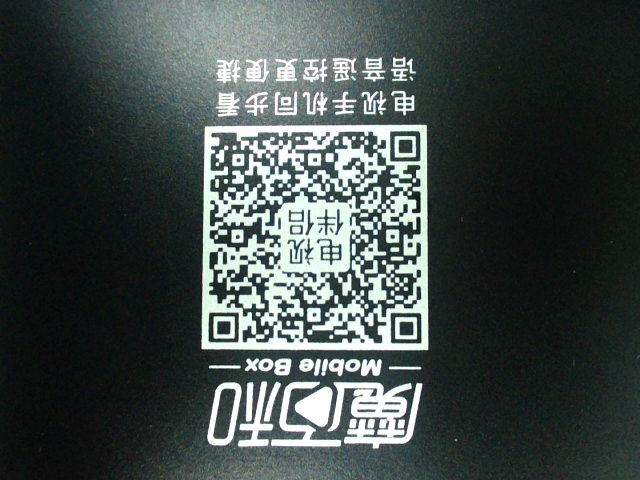AZ_MobileBox: (180, 54, 446, 451)
